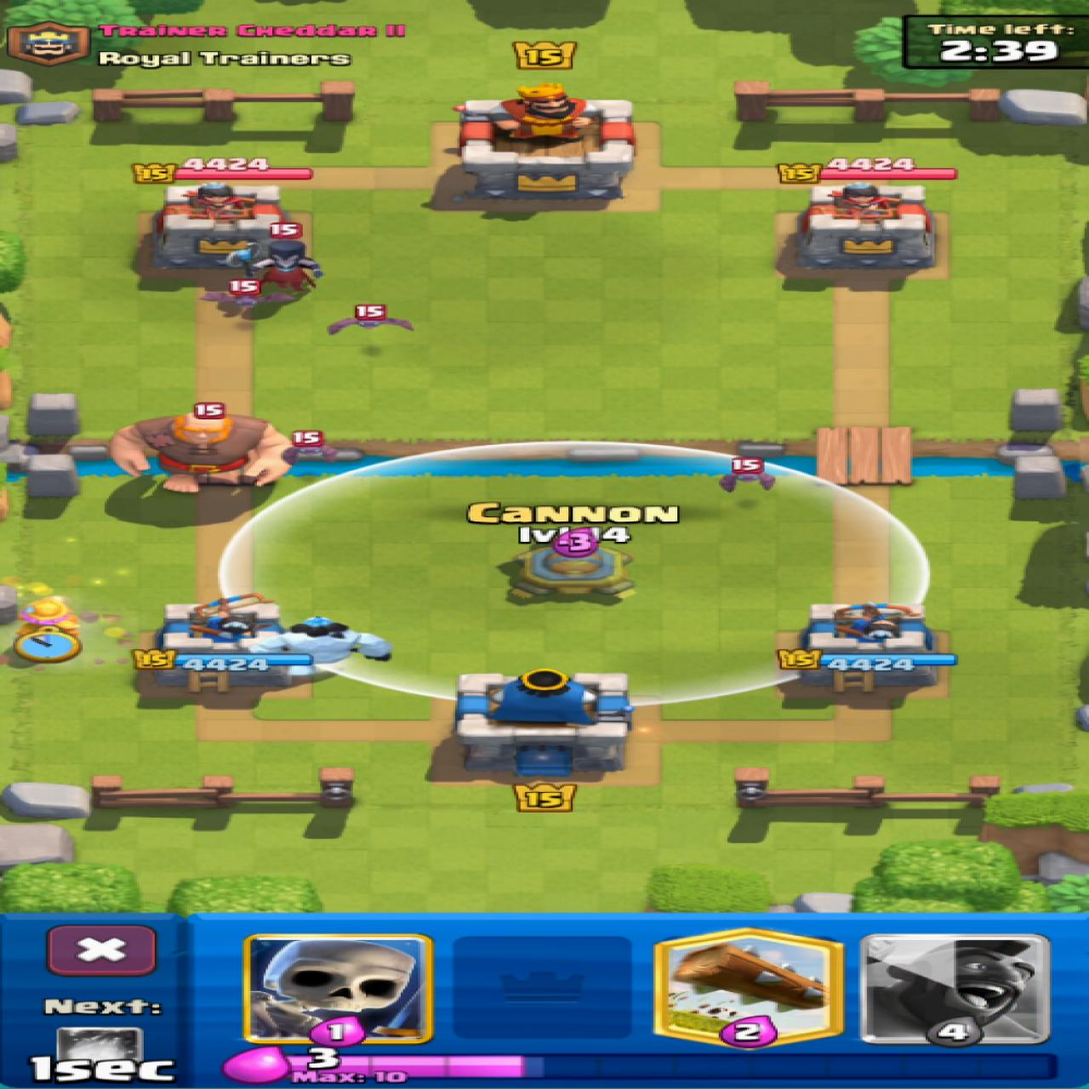Enemy-Bat: (200, 278, 292, 307), (719, 458, 773, 493), (283, 432, 335, 462), (329, 317, 412, 334)
Enemy-Giant: (111, 408, 287, 492)
Enemy-KingTower: (457, 83, 634, 198)
Enemy-NightWitch: (227, 240, 322, 284)
Enemy-PrincessTower: (791, 183, 934, 278), (155, 181, 287, 275)
